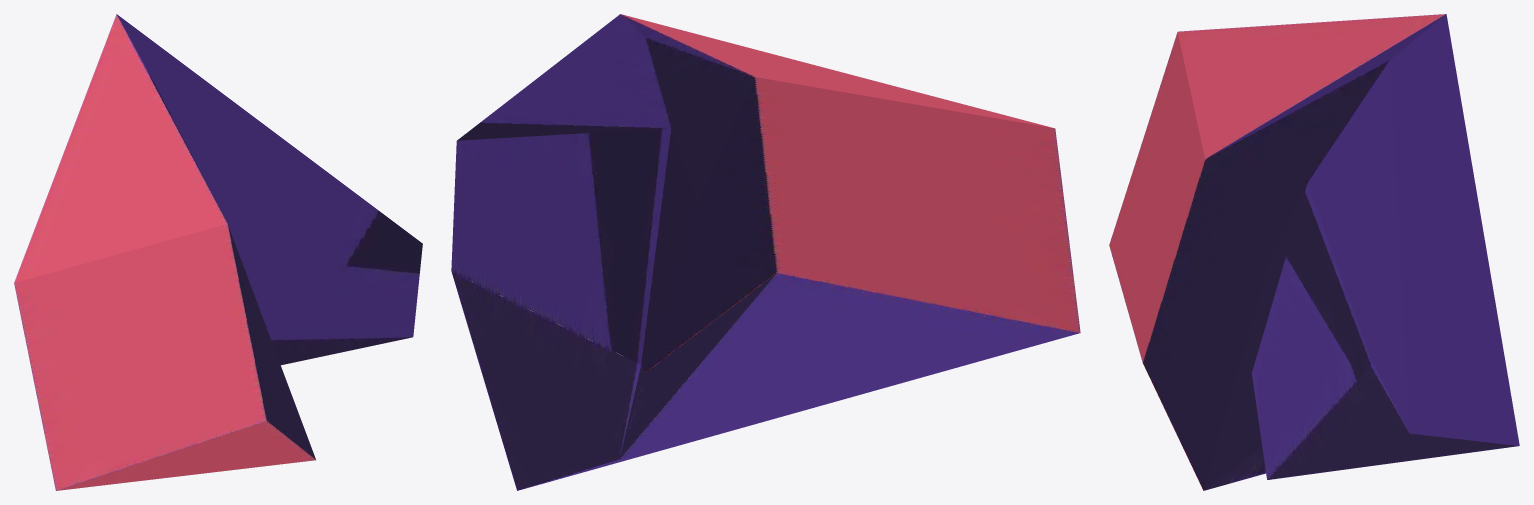
File: Github-3D-Block3-v2.glb
The picture shows the model from 3 angles, left to right: view 1: azimuth 30°, elevation 25°; view 2: azimuth 150°, elevation 25°; view 3: azimuth 270°, elevation 25°; orthographic projection. The views are drawn at different scales.
Visible parts, largest first — view 1: Plane.004; view 2: Plane.004; view 3: Plane.004.
Part boxes in pixels (bbox=[...]): Plane.004: bbox=[14, 14, 422, 490]; Plane.004: bbox=[451, 14, 1080, 490]; Plane.004: bbox=[1109, 14, 1519, 490].
Size of the model in its own units: 5.89 by 4.93 by 4.28.
3 materials, 3 textured.
